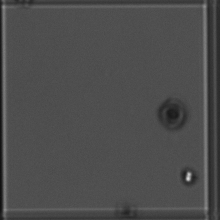Dead Cell: (158, 96, 188, 134)
Living Cell: (178, 165, 198, 185)
